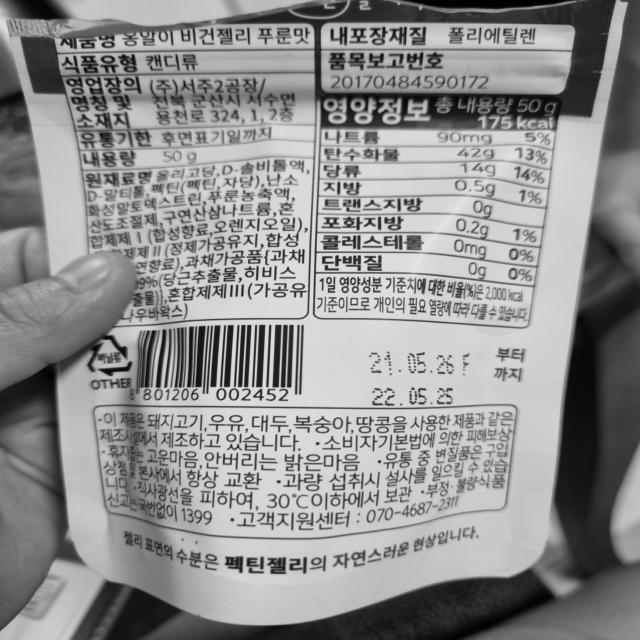Nutrition Label: (324, 94, 558, 334)
